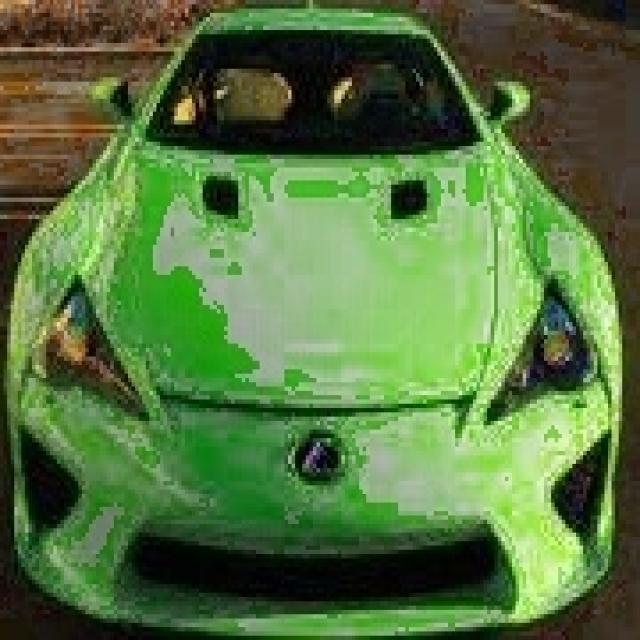green: (7, 4, 640, 640)
